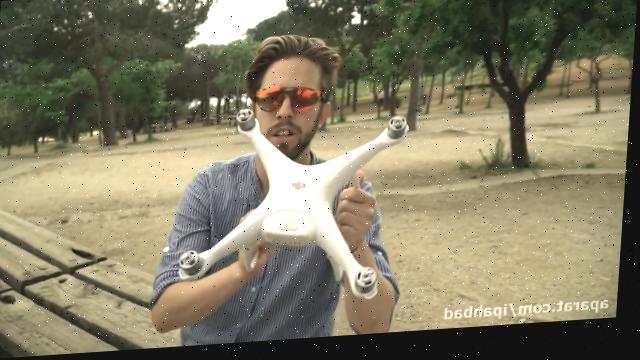drone: (178, 102, 412, 314)
